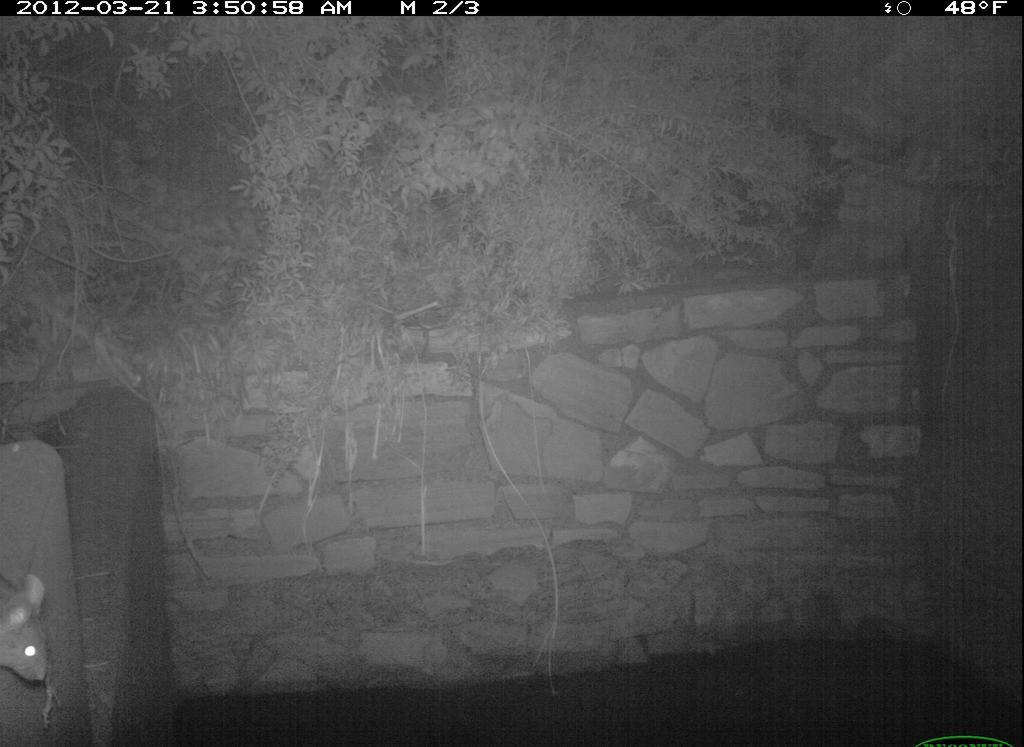rodent: (2, 556, 70, 705)
